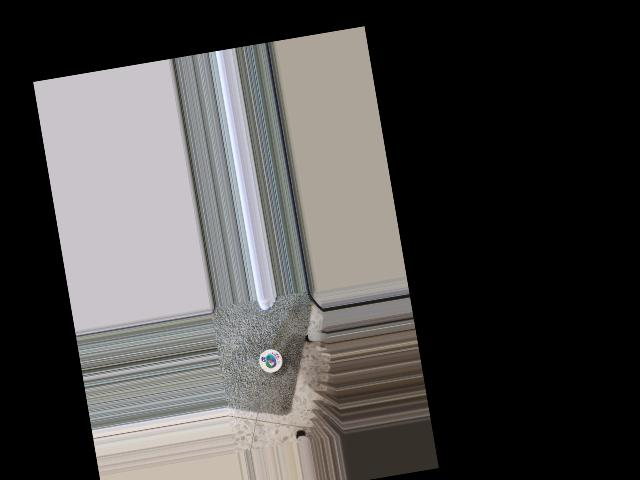cotage: (257, 348, 284, 375)
